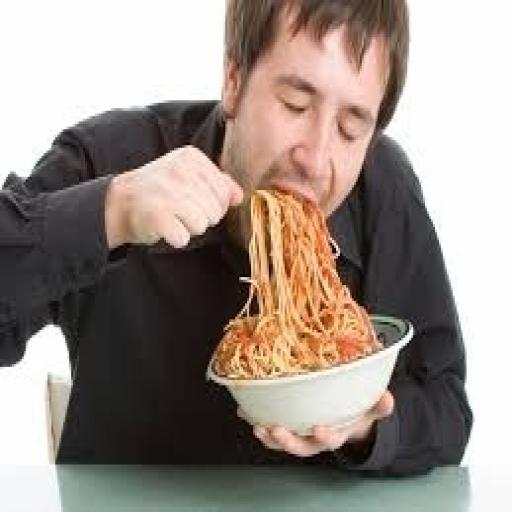eating: (0, 0, 474, 477)
